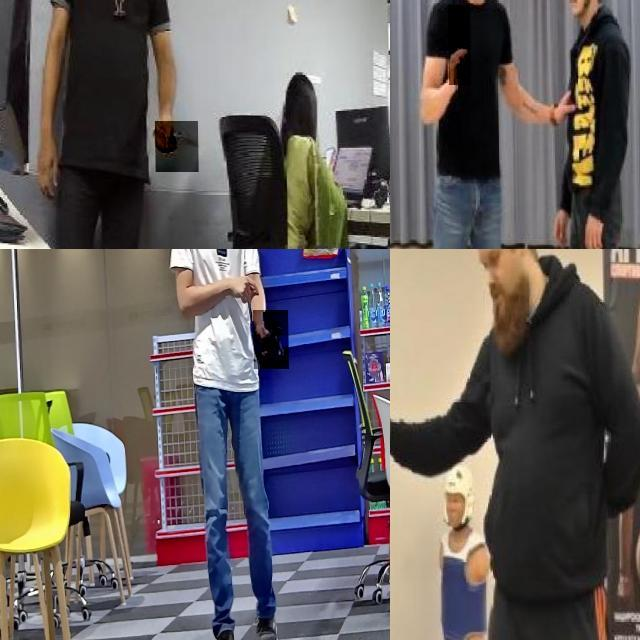-: (390, 386, 406, 533), (153, 121, 197, 172), (447, 5, 470, 85)
gun-knife-thesis - v11 Yolov5 augmented: (252, 310, 288, 369)
